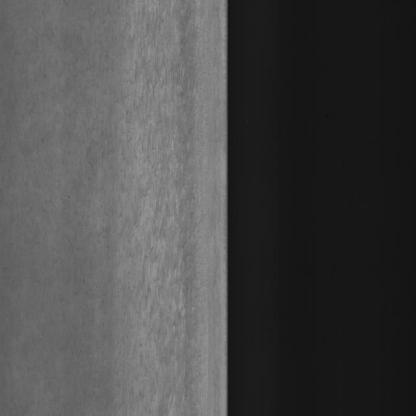silk_spot: (121, 16, 197, 384)
